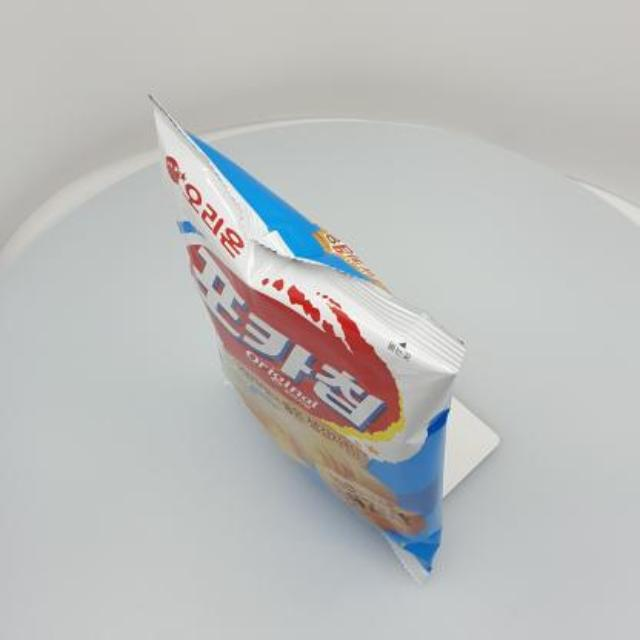snack_bag: (134, 69, 534, 601)
